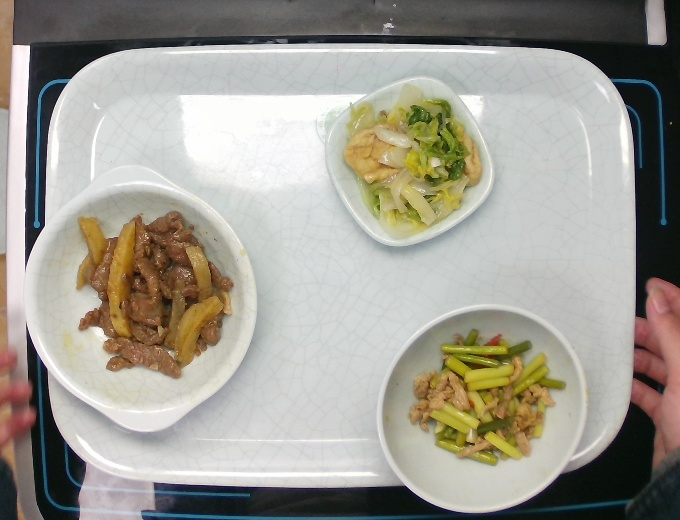JYsf-Fan_Wan: (363, 300, 590, 517)
JYsf-Shuang_Er_Wan: (21, 160, 262, 440)
JYsf-Si_Fang_Die: (321, 71, 495, 249)
